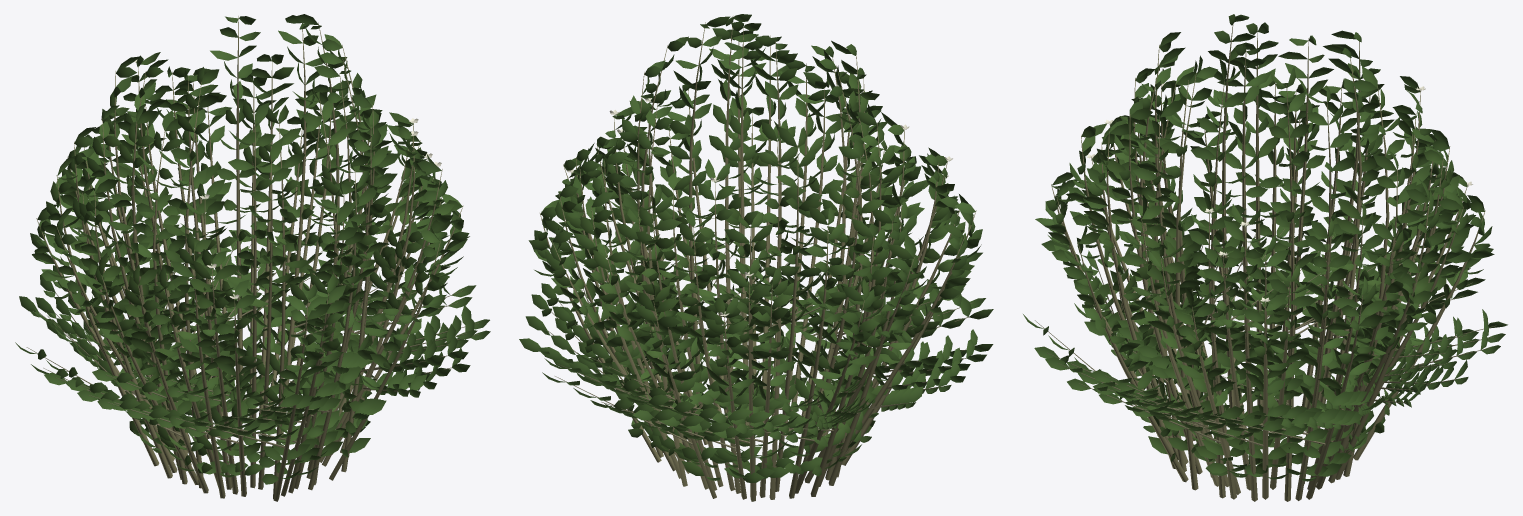
The model's file is myrtus-communis.glb.
3 views of the same model, side by side, from view 1: azimuth 30°, elevation 25°; view 2: azimuth 150°, elevation 25°; view 3: azimuth 270°, elevation 25° (orthographic).
Visible parts, largest first — view 1: myrtus-communis dense natural leaf mound, myrtus-communis connected low branching; view 2: myrtus-communis dense natural leaf mound, myrtus-communis connected low branching; view 3: myrtus-communis dense natural leaf mound, myrtus-communis connected low branching.
Part boxes in pixels (x1=…): myrtus-communis dense natural leaf mound: x1=15, y1=14, x2=490, y2=484; myrtus-communis connected low branching: x1=26, y1=16, x2=478, y2=501; myrtus-communis dense natural leaf mound: x1=519, y1=14, x2=993, y2=482; myrtus-communis connected low branching: x1=540, y1=16, x2=976, y2=501; myrtus-communis dense natural leaf mound: x1=1023, y1=14, x2=1507, y2=481; myrtus-communis connected low branching: x1=1035, y1=24, x2=1496, y2=501.
Size of the model in its own units: 0.926 by 0.8968 by 0.926.
